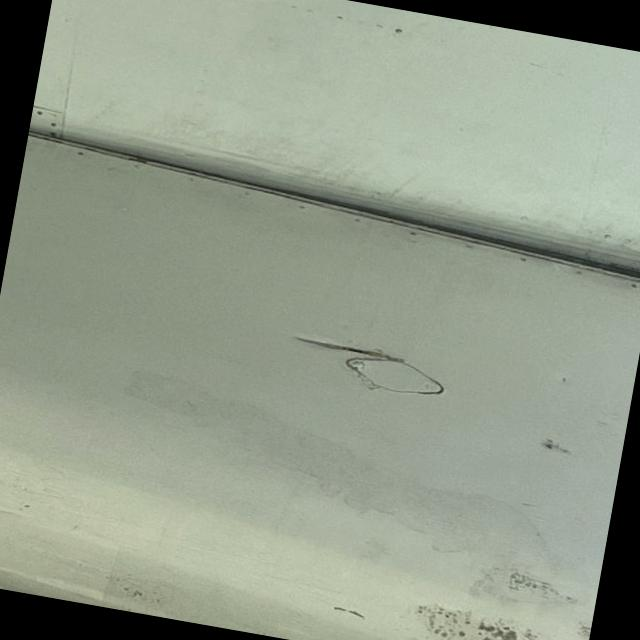crack: (296, 326, 408, 364)
